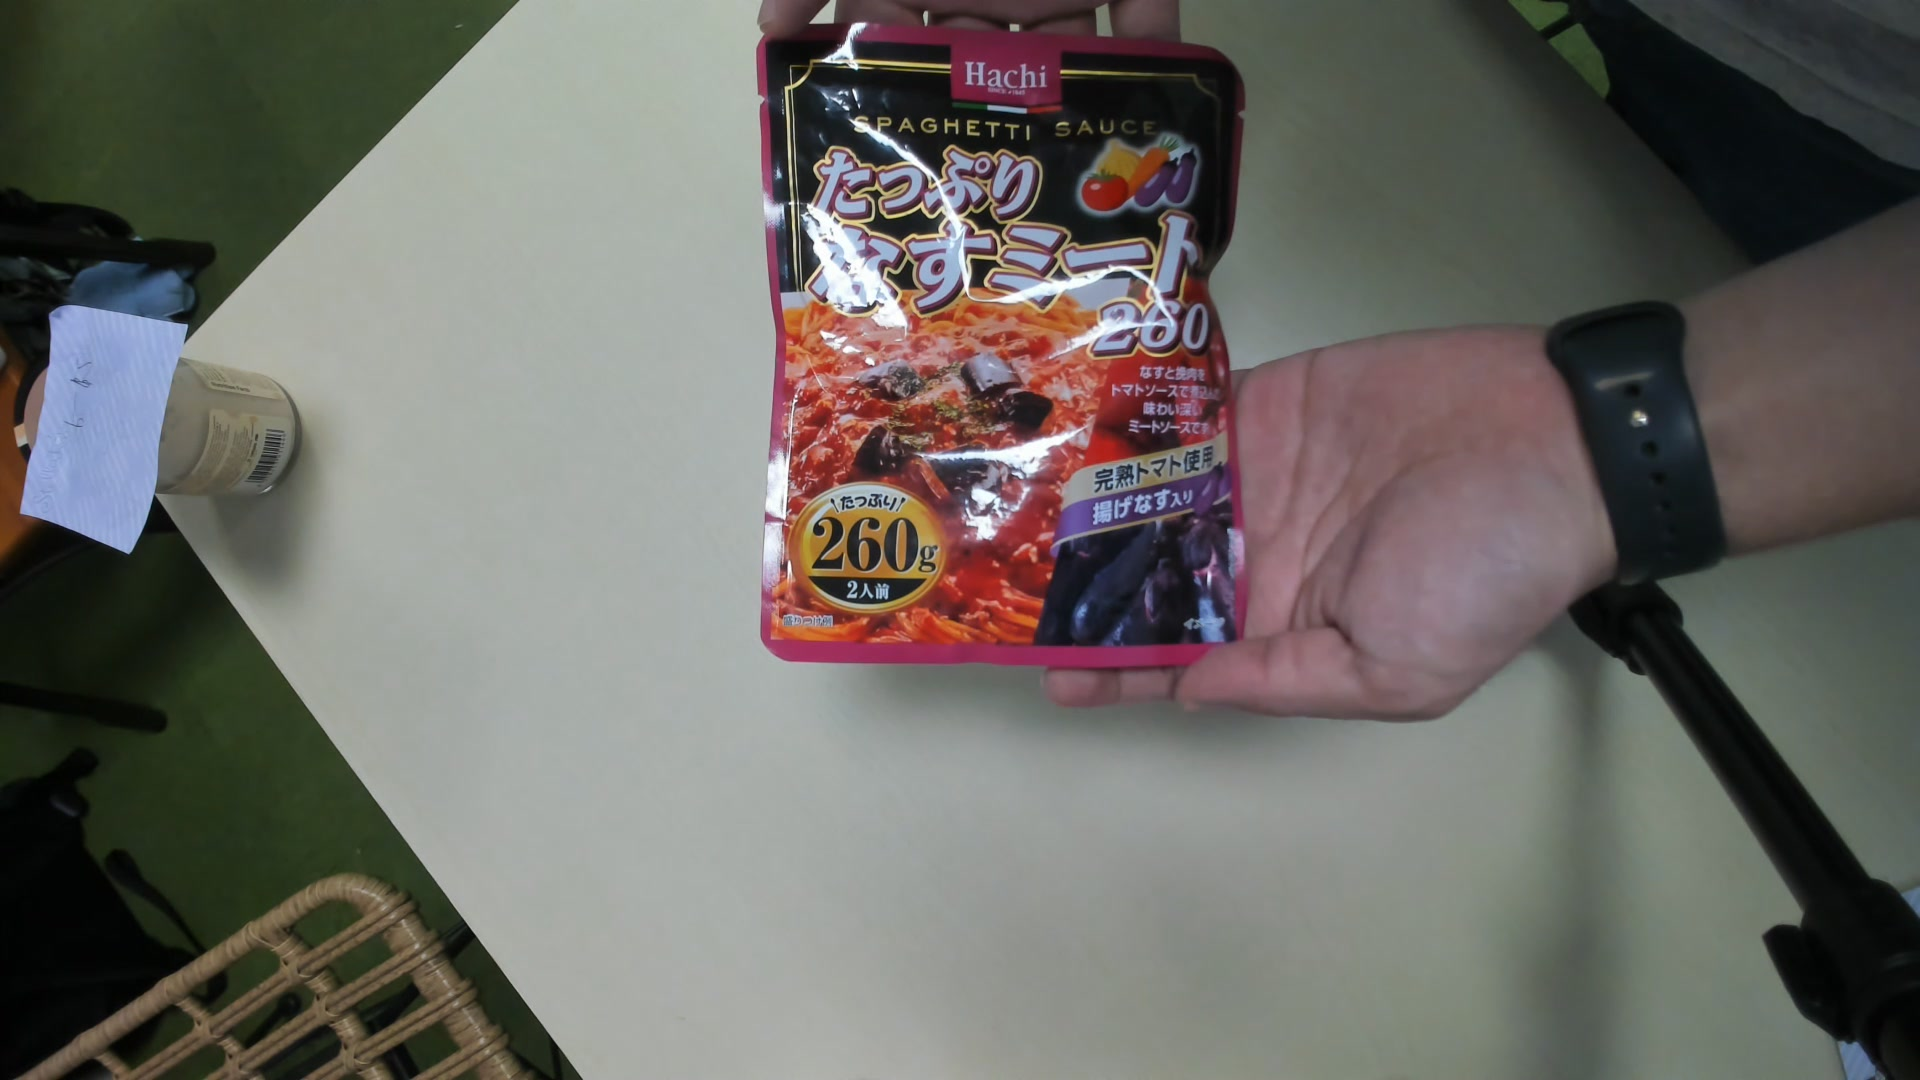PastaSauce_200-299g_NonHalal_NonHealthy: (749, 22, 1255, 674)
